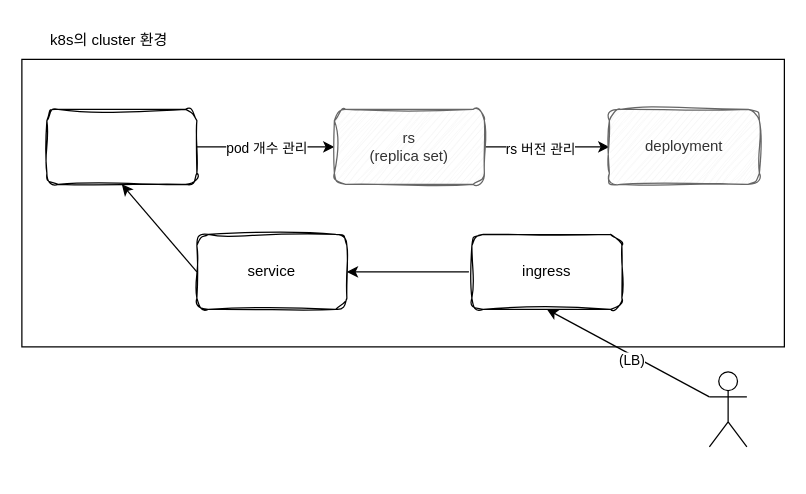
This 806x494 diagram has some shape labels left out. The shapes that lost their labels are listed below. From the top down, each one's centre as x and y in pixels, then its label:
At point (121, 146): "pod * n".
At point (727, 409): "Actor".
